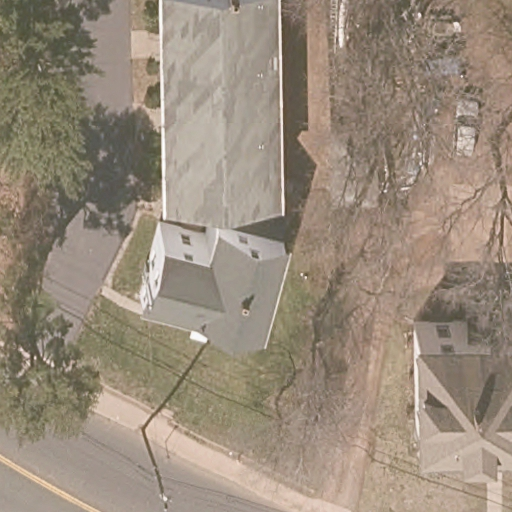DT: (137, 424, 173, 509)
